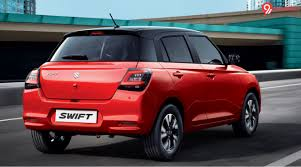Swift: (20, 21, 263, 159)
